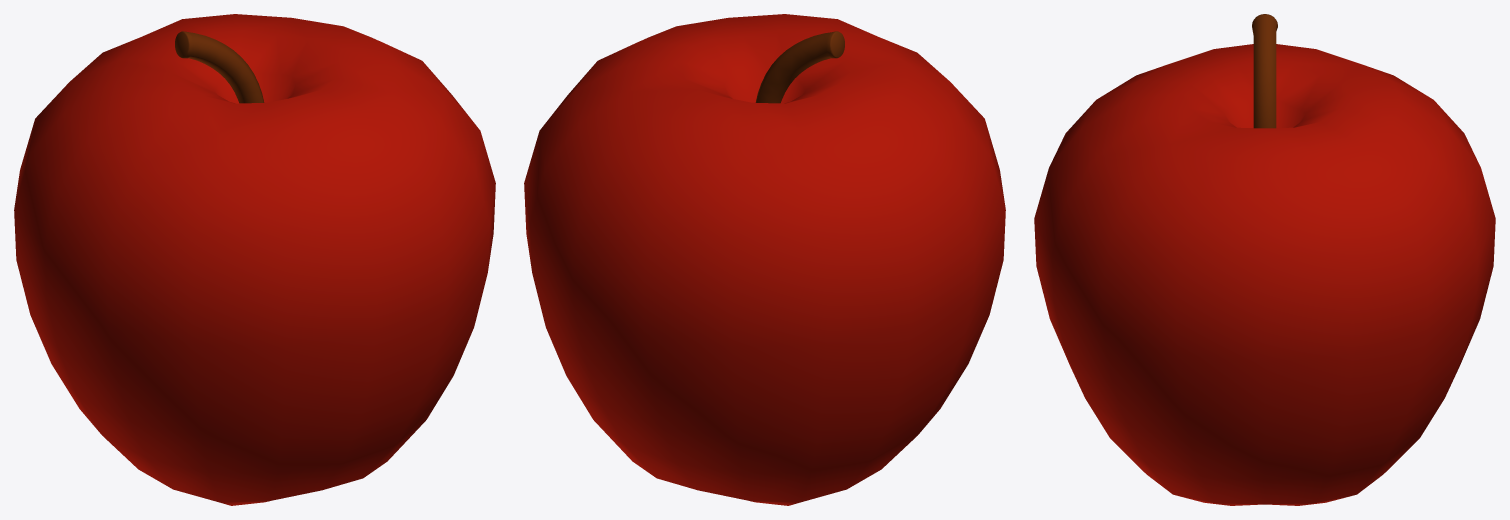
The model's file is apple.FBX.
3 views of the same model, side by side, from view 1: azimuth 30°, elevation 25°; view 2: azimuth 150°, elevation 25°; view 3: azimuth 270°, elevation 25° (orthographic). The views are drawn at different scales.
Visible parts, largest first — view 1: nurbsToPoly1, nurbsToPoly2; view 2: nurbsToPoly1, nurbsToPoly2; view 3: nurbsToPoly1, nurbsToPoly2.
Boxes of the visible parts, bbox=[...] form: nurbsToPoly1: bbox=[14, 14, 495, 505]; nurbsToPoly2: bbox=[175, 31, 264, 103]; nurbsToPoly1: bbox=[524, 14, 1005, 505]; nurbsToPoly2: bbox=[755, 31, 844, 103]; nurbsToPoly1: bbox=[1034, 44, 1495, 505]; nurbsToPoly2: bbox=[1252, 14, 1277, 128].
Size of the model in its own units: 1.81 by 1.86 by 1.81.
